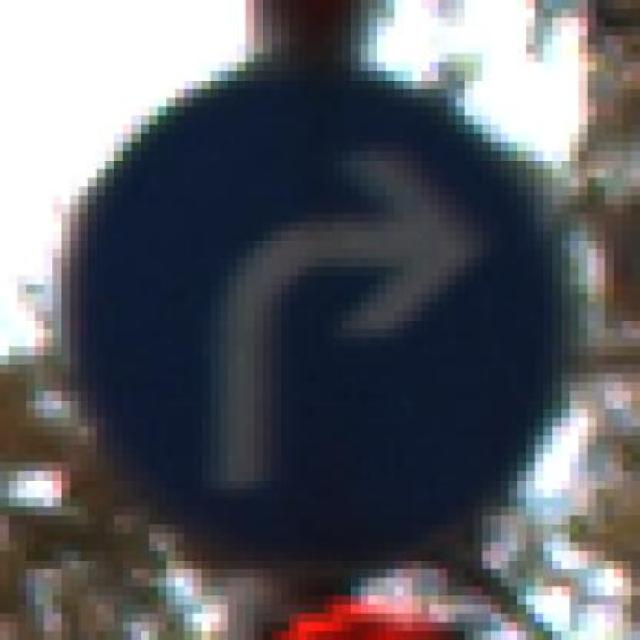Turn right ahead: (62, 62, 588, 587)
